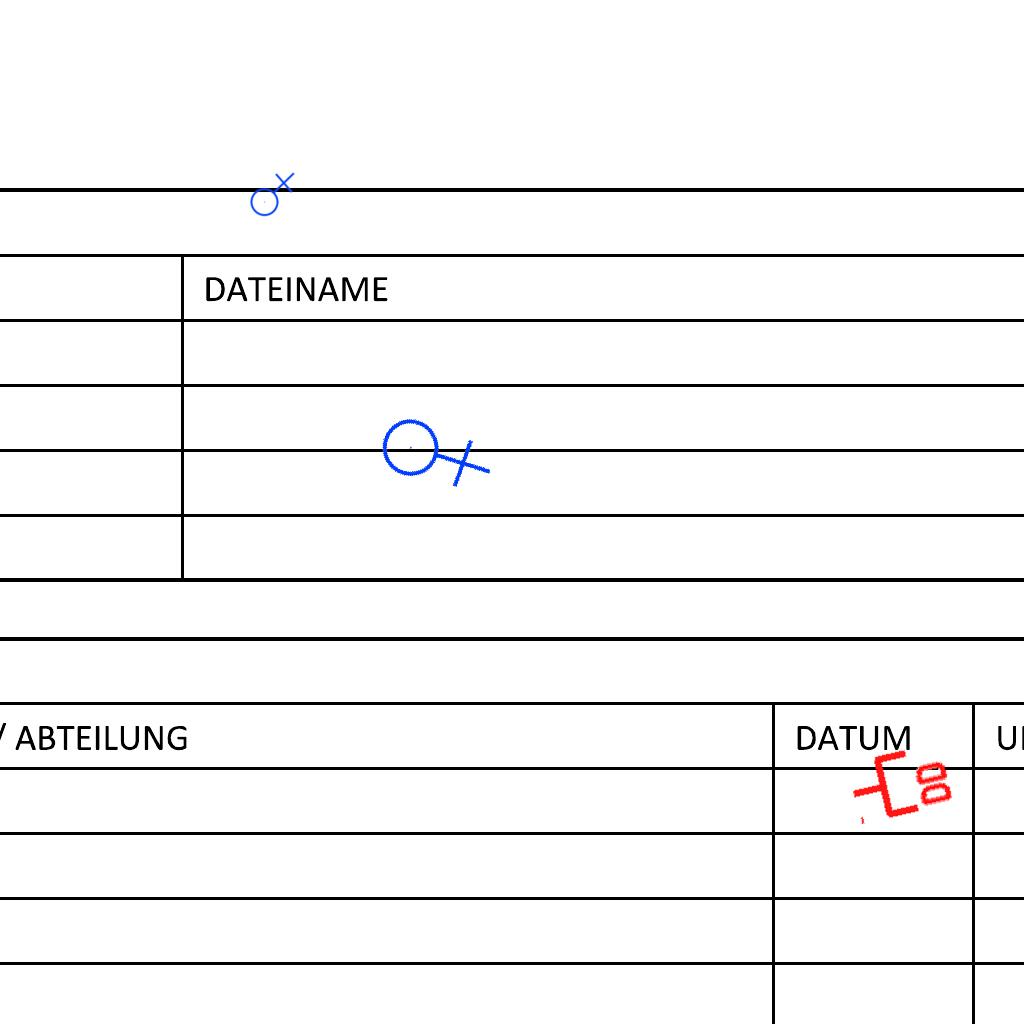Datenanschluss_zweifach: (842, 736, 959, 827)
Elektroanschluss_allgemein_230V_Geraeteanschlussdose_230V: (366, 383, 497, 517), (246, 170, 295, 217)
